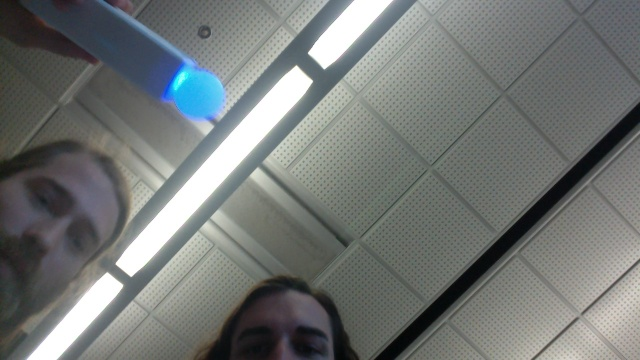wand: (174, 71, 225, 121)
